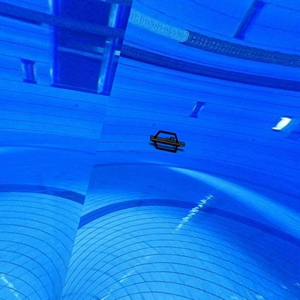submarine: (142, 120, 192, 158)
